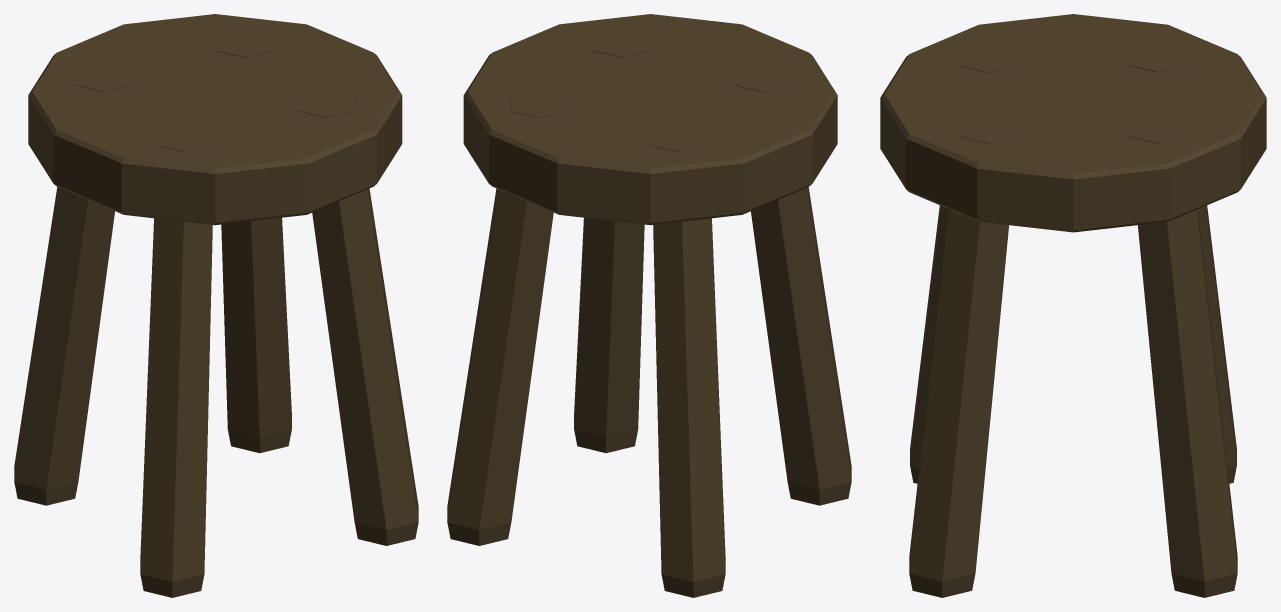
Rendered from LowStool.fbx.
The picture shows the model from 3 angles, left to right: view 1: azimuth 30°, elevation 25°; view 2: azimuth 150°, elevation 25°; view 3: azimuth 270°, elevation 25°; orthographic projection. The views are drawn at different scales.
Visible parts, largest first — view 1: Circle; view 2: Circle; view 3: Circle.
Part boxes in pixels (x1,y1,x2,y2): Circle: (14,14,418,597); Circle: (447,14,851,597); Circle: (880,14,1266,597).
Size of the model in its own units: 45 by 55.94 by 45.
